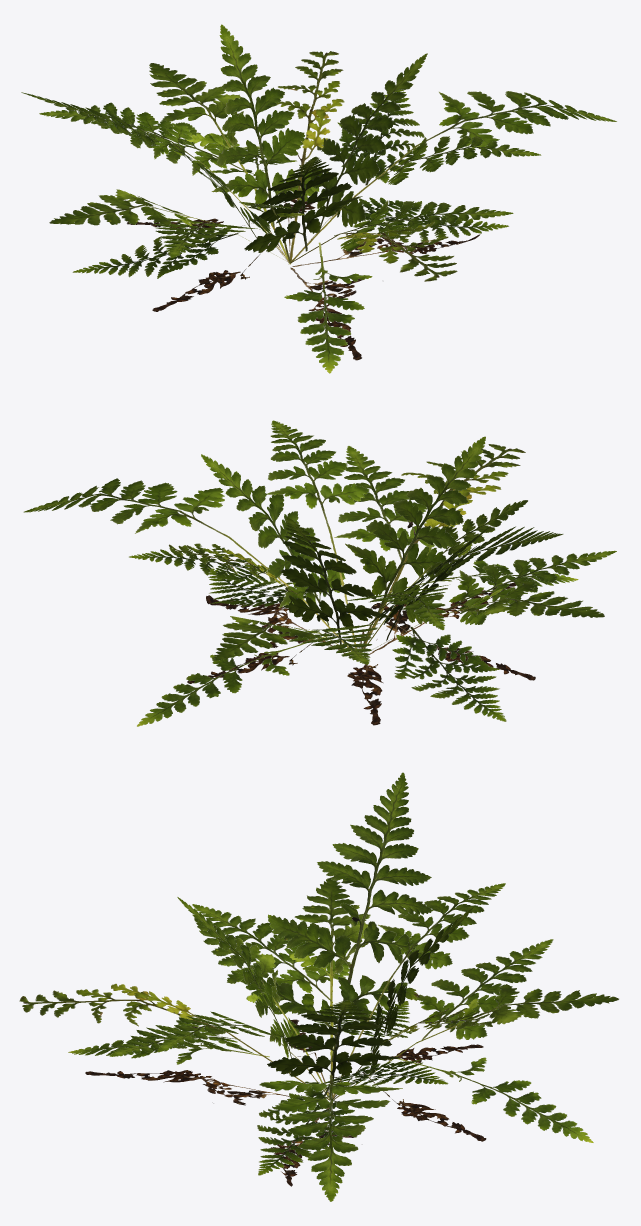
File: LeatherFernMedDetail.fbx
3 views of the same model, one above another, from view 1: azimuth 30°, elevation 25°; view 2: azimuth 150°, elevation 25°; view 3: azimuth 270°, elevation 25° (orthographic). The views are drawn at different scales.
Parts seen in each view (by area): view 1: _fcd9_VarA_LOD4; view 2: _fcd9_VarA_LOD4; view 3: _fcd9_VarA_LOD4.
Part boxes in pixels (<box>): _fcd9_VarA_LOD4: <box>21,24,616,373</box>; _fcd9_VarA_LOD4: <box>23,420,616,726</box>; _fcd9_VarA_LOD4: <box>19,772,618,1201</box>.
Size of the model in its own units: 145 by 49.76 by 127.
